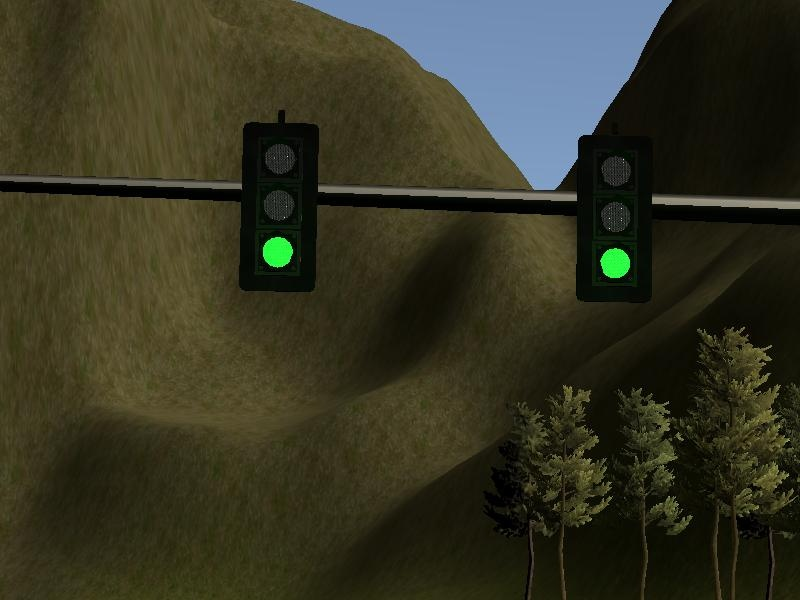GREEN: (239, 122, 320, 289), (579, 137, 652, 305)
